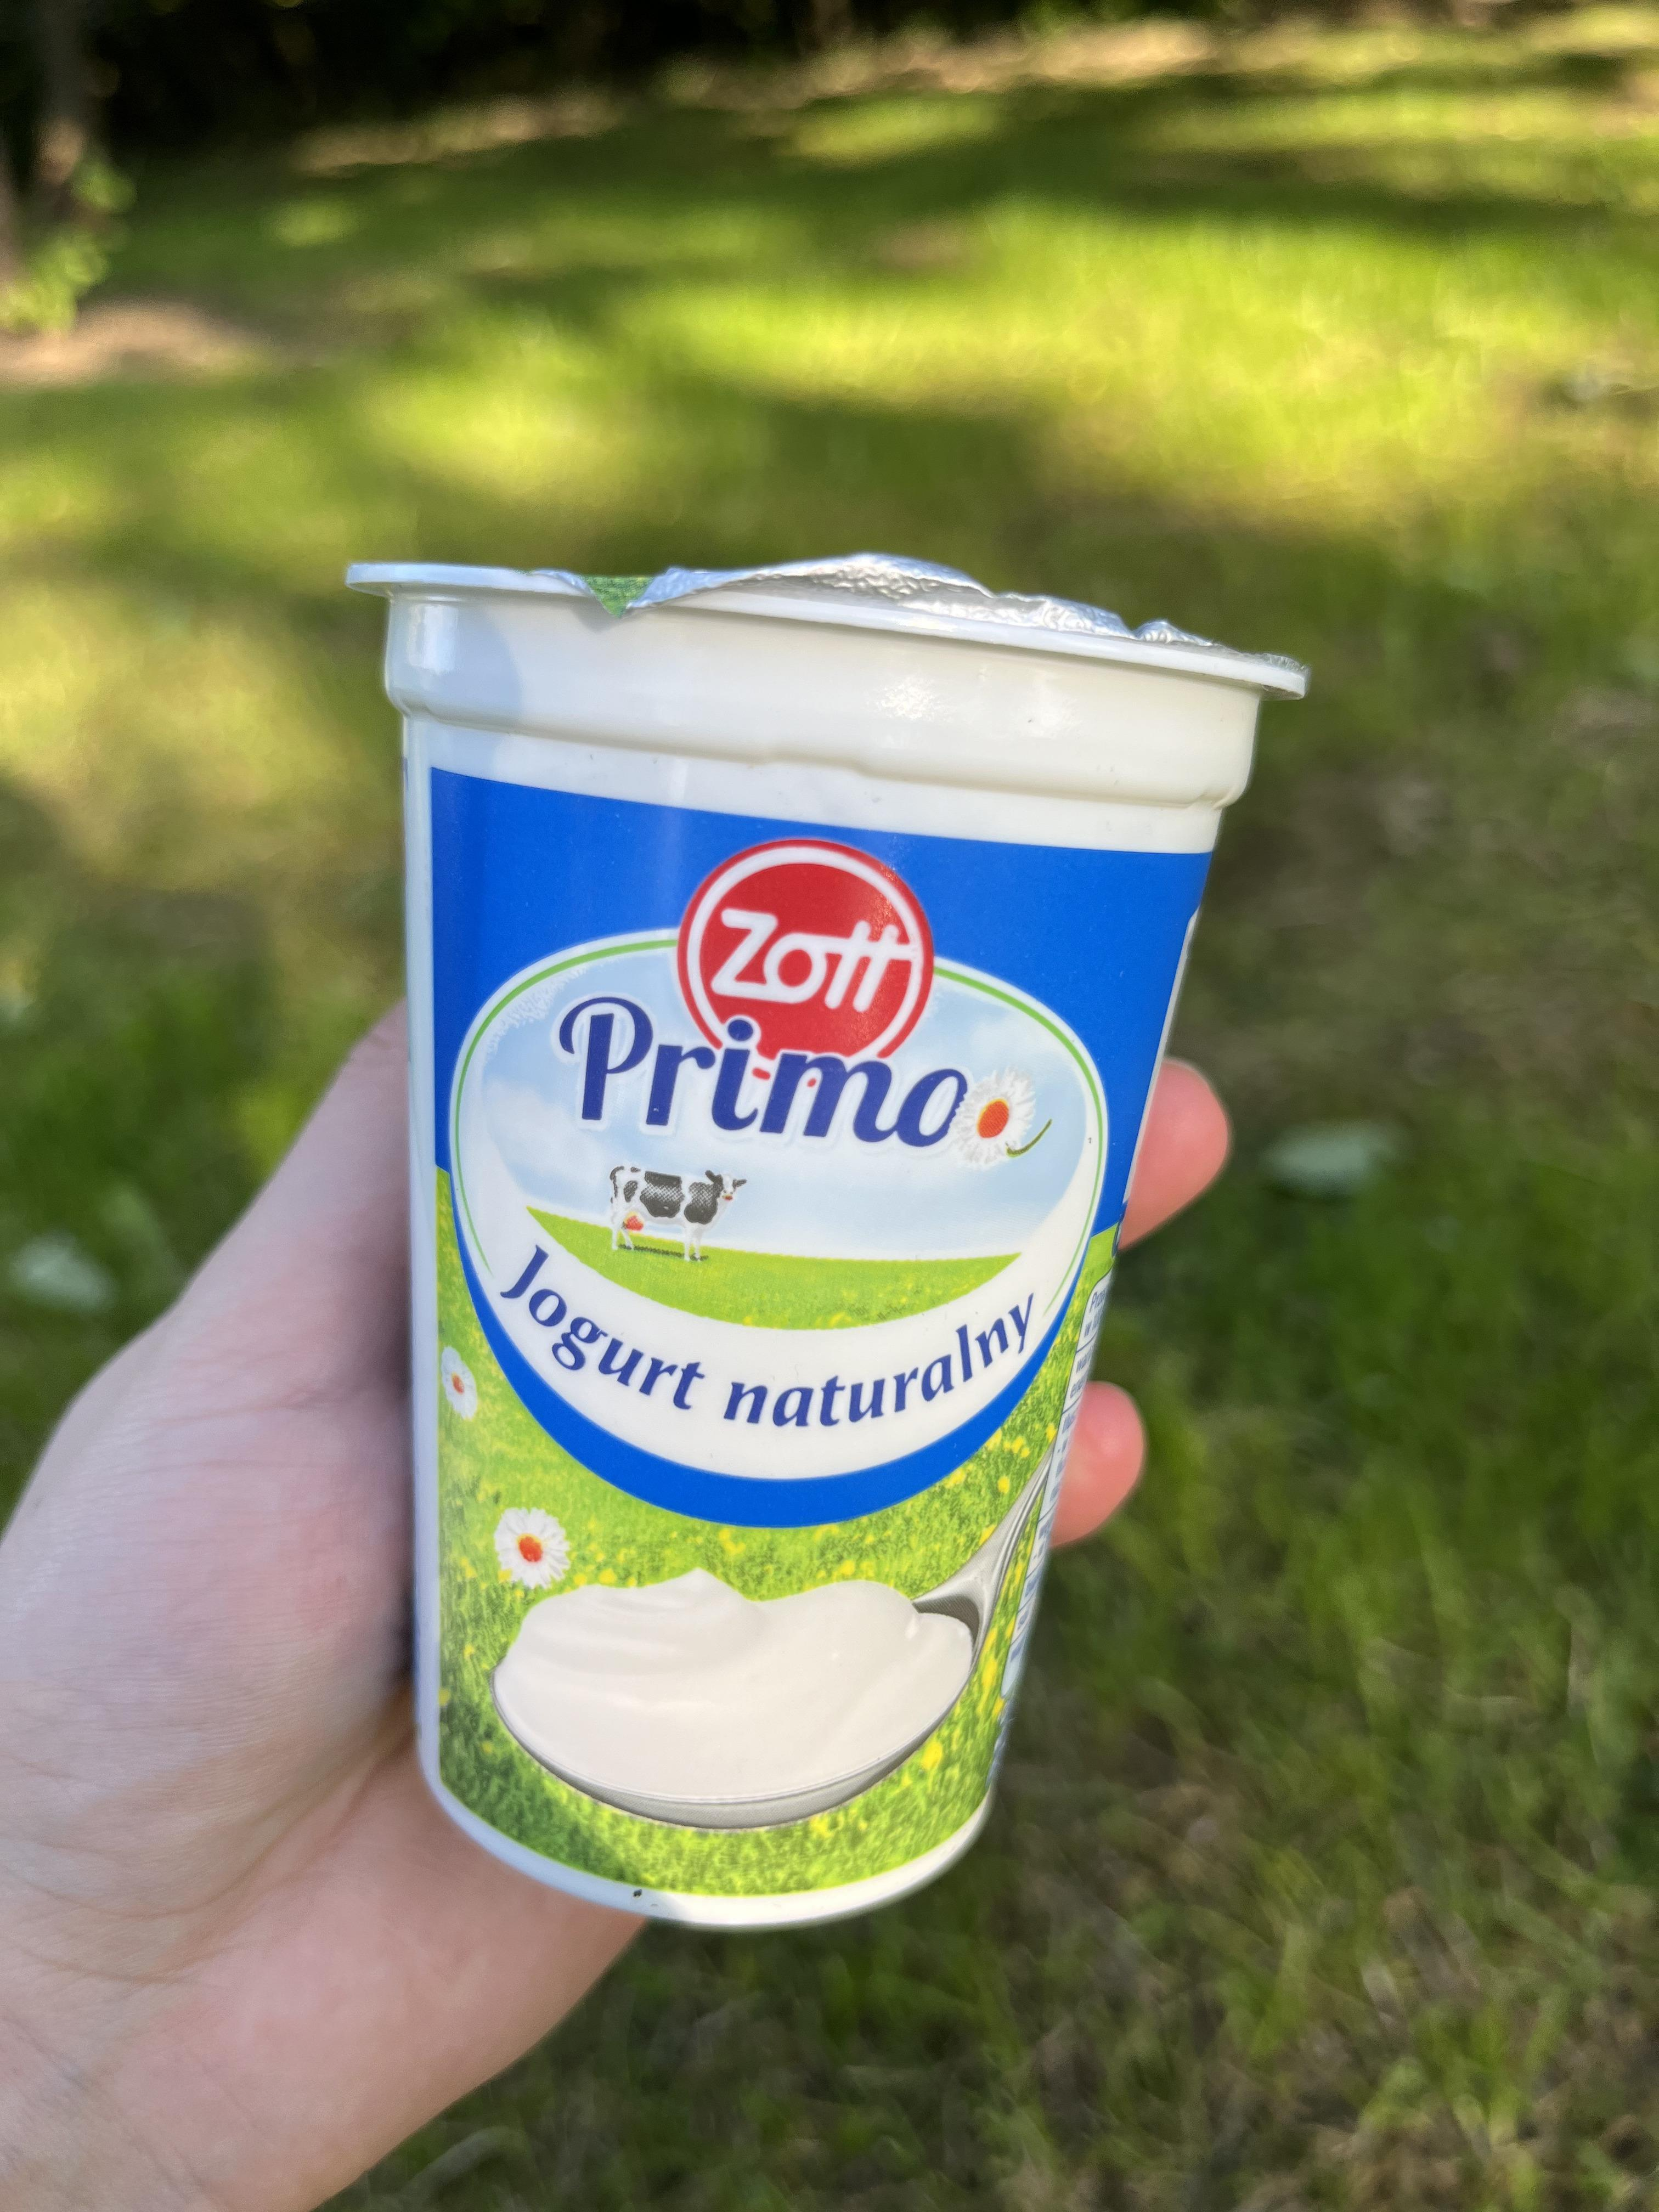Yogurt: (410, 566, 1141, 1940)
